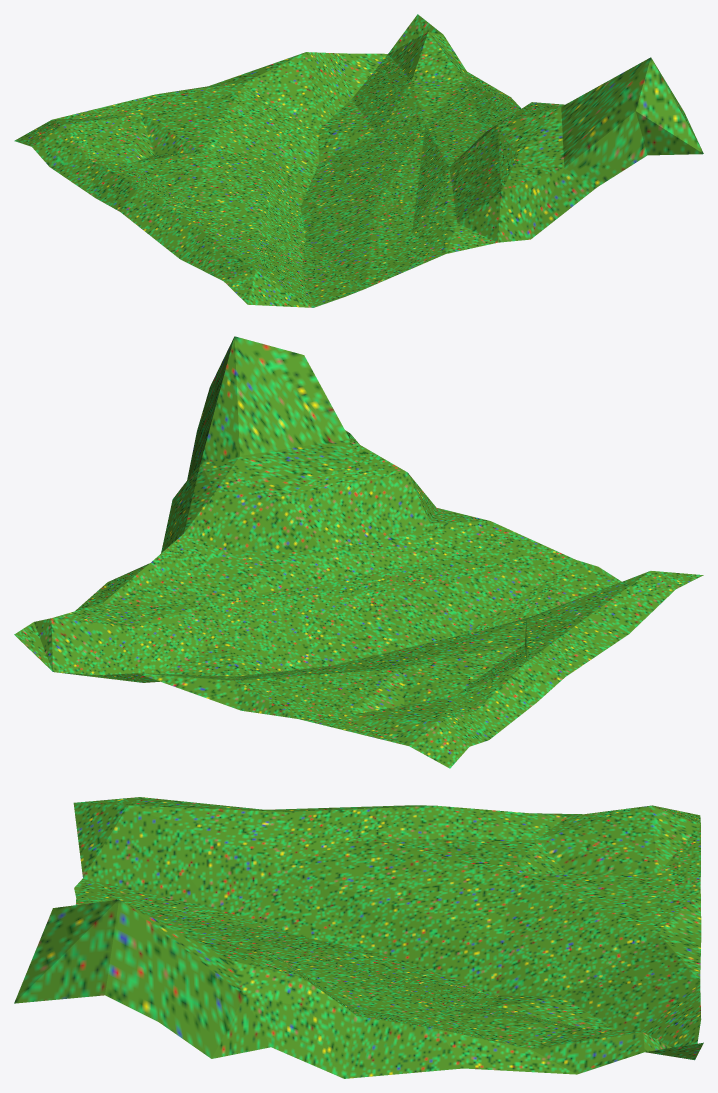
Rendered from map.obj.
3 views of the same model, one above another, from view 1: azimuth 30°, elevation 25°; view 2: azimuth 150°, elevation 25°; view 3: azimuth 270°, elevation 25° (orthographic). The views are drawn at different scales.
Visible parts, largest first — view 1: Plane; view 2: Plane; view 3: Plane.
Boxes of the visible parts, box(x1,y1,x2,y2) form: Plane: box(14, 14, 703, 307); Plane: box(14, 336, 703, 768); Plane: box(14, 797, 703, 1078).
Bounding box in the file's own units: 22.04 × 7.69 × 22.02.
